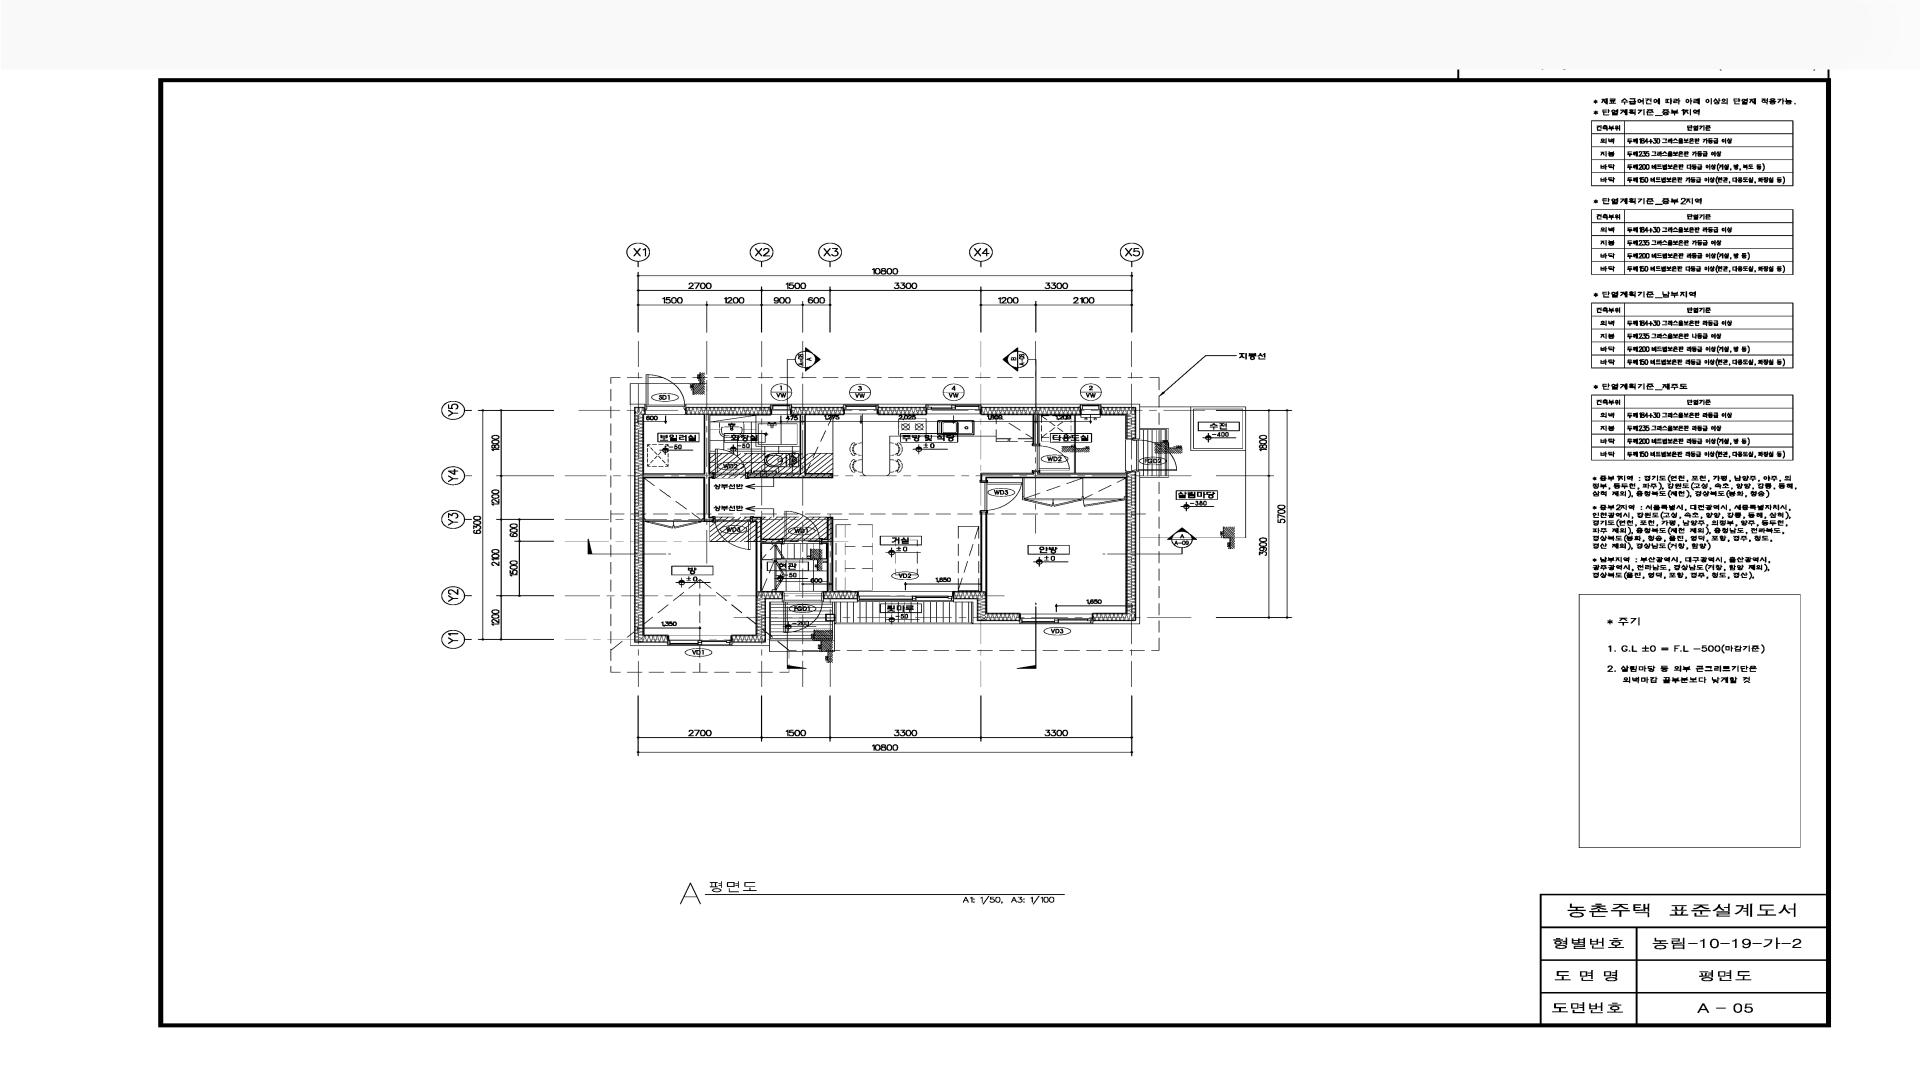door: (1125, 439, 1178, 472), (782, 591, 823, 633), (645, 375, 686, 415), (980, 481, 1023, 512), (782, 510, 822, 543), (713, 517, 752, 550), (713, 448, 748, 479), (1031, 444, 1069, 471)
wall: (630, 404, 669, 646), (644, 415, 713, 522), (1092, 471, 1139, 624), (748, 414, 833, 479), (732, 599, 782, 646), (752, 517, 782, 591), (953, 599, 1019, 624), (980, 471, 1126, 481), (1101, 404, 1141, 439), (822, 517, 833, 591), (980, 512, 988, 591), (981, 404, 1080, 407), (686, 404, 771, 407), (1038, 471, 1126, 473), (791, 404, 844, 407), (878, 404, 927, 407), (1033, 415, 1039, 444), (980, 471, 1034, 473), (823, 599, 858, 603)
window: (858, 591, 953, 601), (1019, 613, 1092, 624), (669, 634, 732, 646), (926, 404, 981, 415), (844, 404, 878, 414), (1080, 404, 1101, 415), (771, 404, 791, 414)
